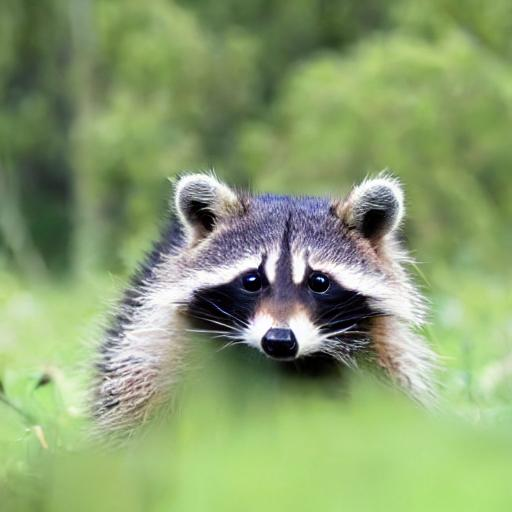raccoon: (82, 162, 447, 442)
